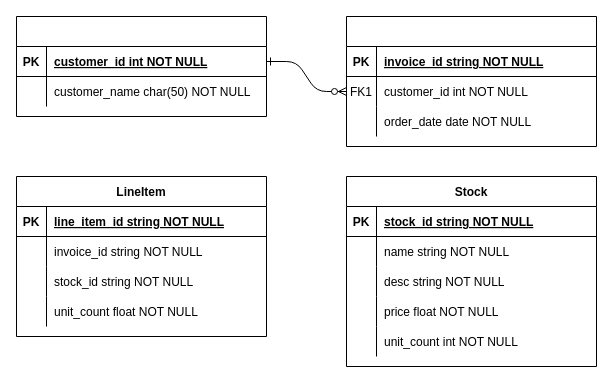
Image size: 613x383. Some labels were removed from this diagram. Each missing label, with the box of its shape:
Customers: (16, 16, 266, 116)
Invoices: (346, 16, 596, 146)
